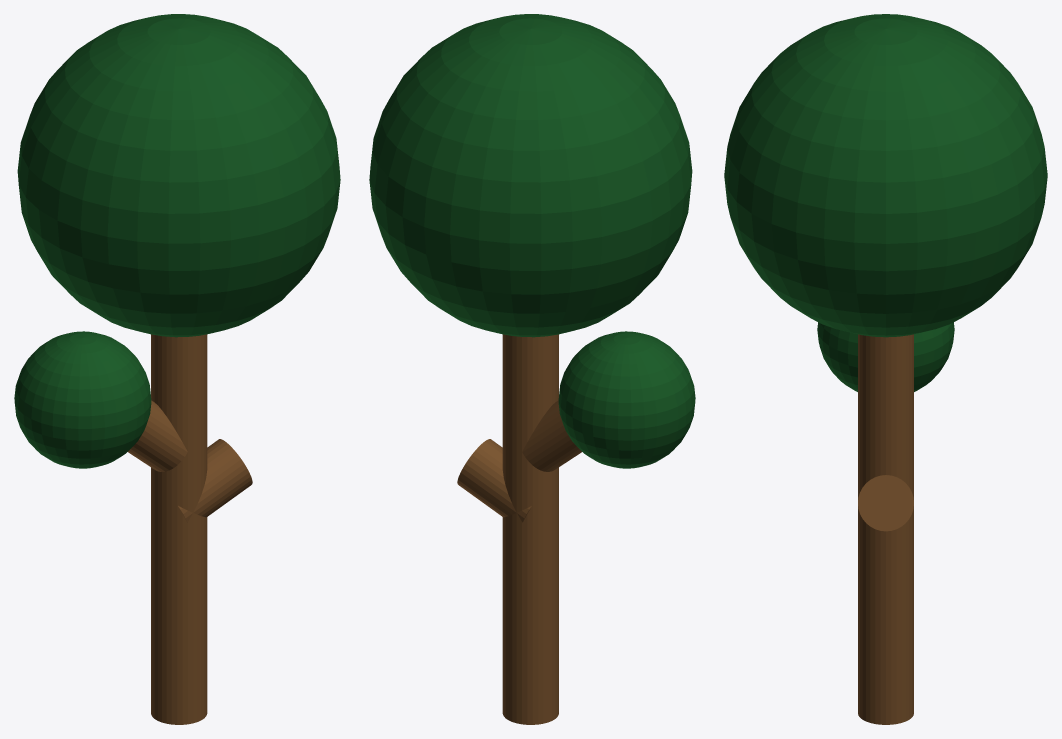
File: circleTree.fbx
3 views of the same model, side by side, from view 1: azimuth 30°, elevation 25°; view 2: azimuth 150°, elevation 25°; view 3: azimuth 270°, elevation 25° (orthographic).
Visible parts, largest first — view 1: Trunk; view 2: Trunk; view 3: Trunk.
Boxes of the visible parts, x1,y1,x2,y2 form: Trunk: (14, 14, 340, 724); Trunk: (369, 14, 695, 724); Trunk: (724, 14, 1047, 724).
Size of the model in its own units: 211 by 467 by 200.
